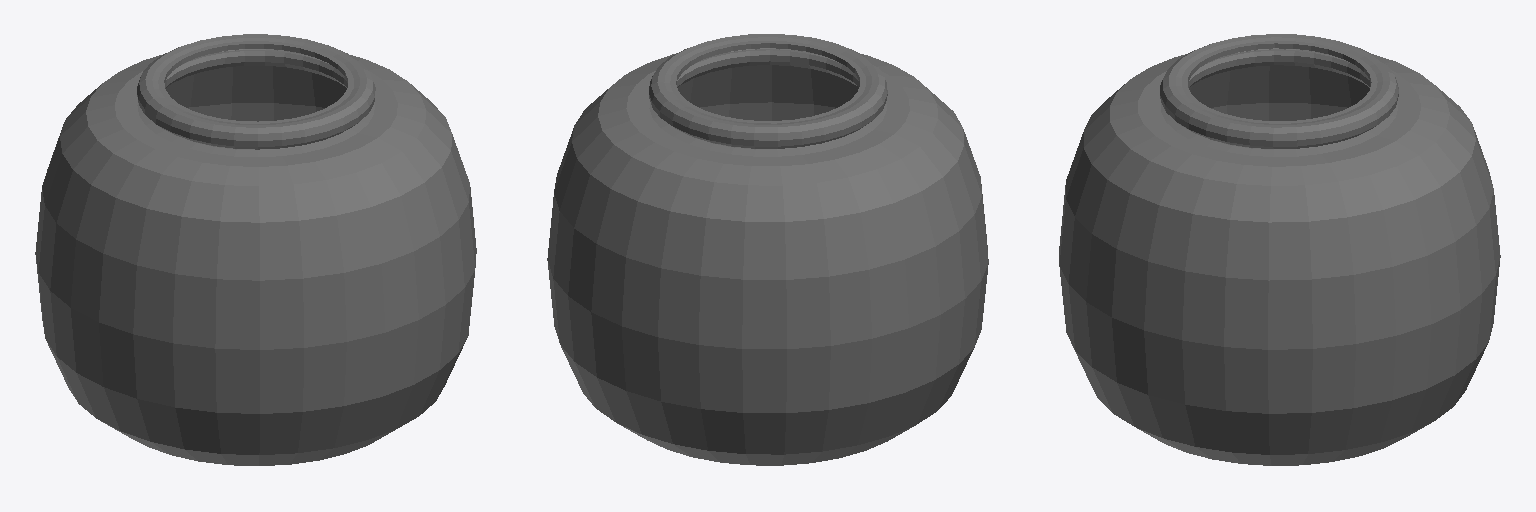
File: FishandBowlWithCastle.obj
3 renders of one model, left to right at view 1: azimuth 30°, elevation 25°; view 2: azimuth 150°, elevation 25°; view 3: azimuth 270°, elevation 25°, orthographic.
Parts seen in each view (by area): view 1: FishBowl; view 2: FishBowl; view 3: FishBowl.
Part boxes in pixels (x1,y1,x2,y2): FishBowl: (35, 34, 476, 465); FishBowl: (547, 34, 988, 465); FishBowl: (1059, 34, 1500, 465).
Size of the model in its own units: 14.74 by 12.9 by 14.72.